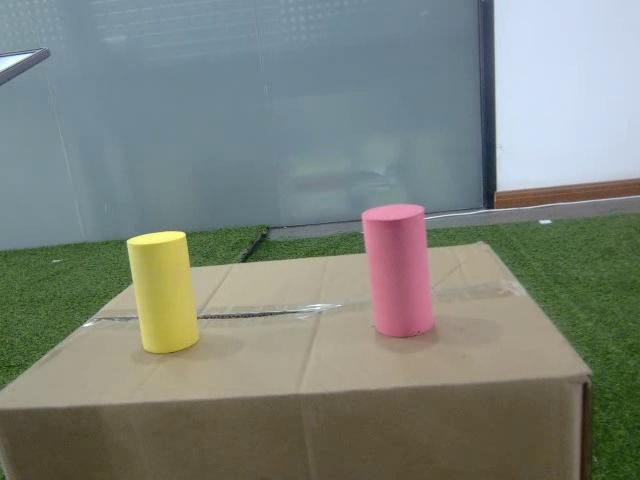red_cylinder: (359, 204, 438, 338)
yellow_cylinder: (125, 229, 202, 355)
